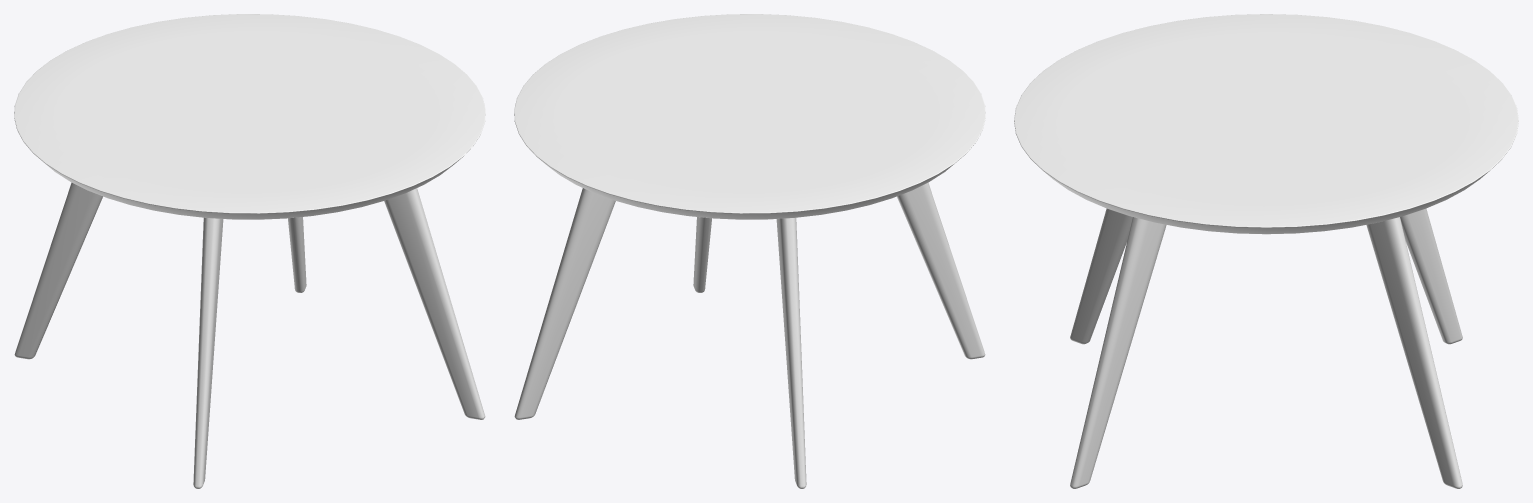
The model's file is table2.obj.
3 views of the same model, side by side, from view 1: azimuth 30°, elevation 25°; view 2: azimuth 150°, elevation 25°; view 3: azimuth 270°, elevation 25° (orthographic). The views are drawn at different scales.
Parts seen in each view (by area): view 1: Mesh; view 2: Mesh; view 3: Mesh.
Boxes of the visible parts, x1,y1,x2,y2 form: Mesh: [14, 14, 485, 488]; Mesh: [514, 14, 985, 488]; Mesh: [1014, 14, 1518, 488].
Size of the model in its own units: 2.06 by 1.32 by 2.06.
1 material, 1 textured.
